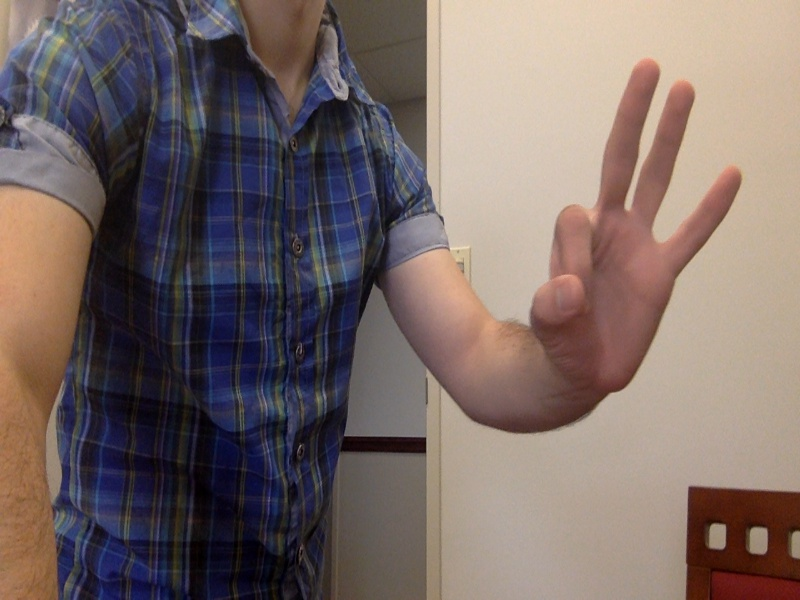3-hand: (525, 56, 742, 399)
